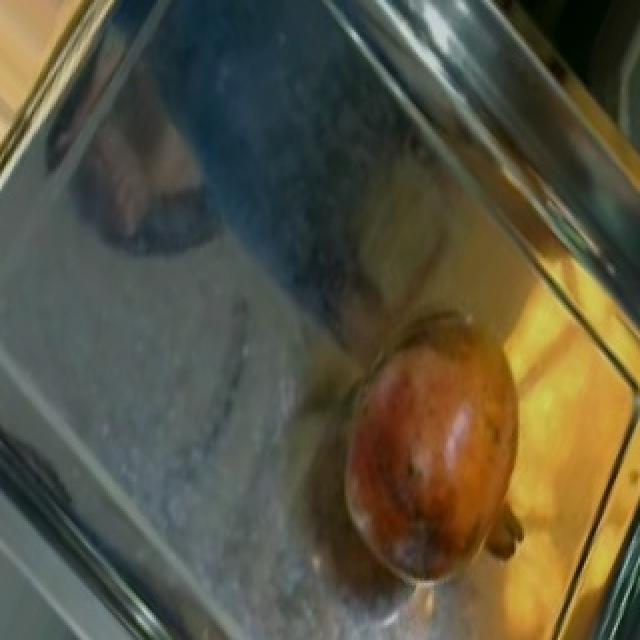fruit: (314, 315, 556, 625)
